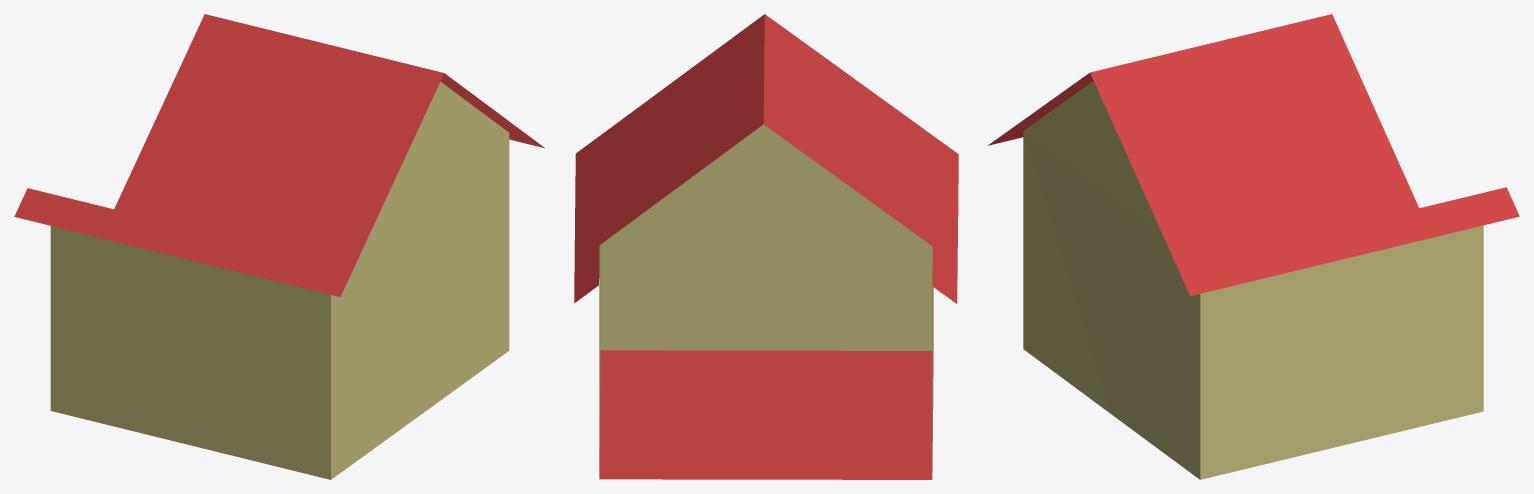
3 renders of one model, left to right at view 1: azimuth 30°, elevation 25°; view 2: azimuth 150°, elevation 25°; view 3: azimuth 270°, elevation 25°, orthographic. The views are drawn at different scales.
Size of the model in its own units: 20.41 by 19.99 by 14.44.
